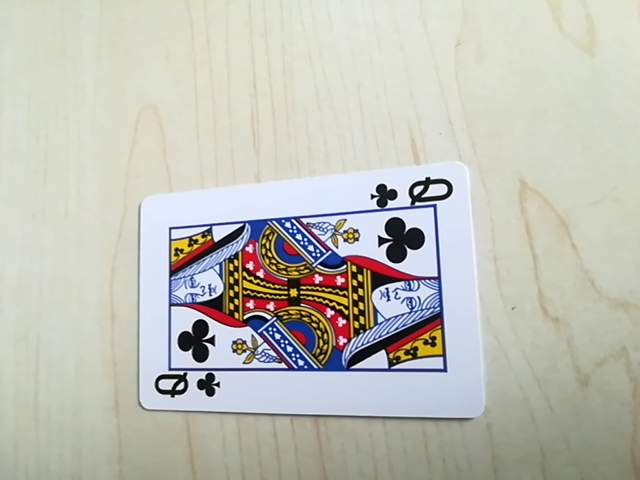mh q: (369, 172, 456, 209), (149, 366, 220, 406)
